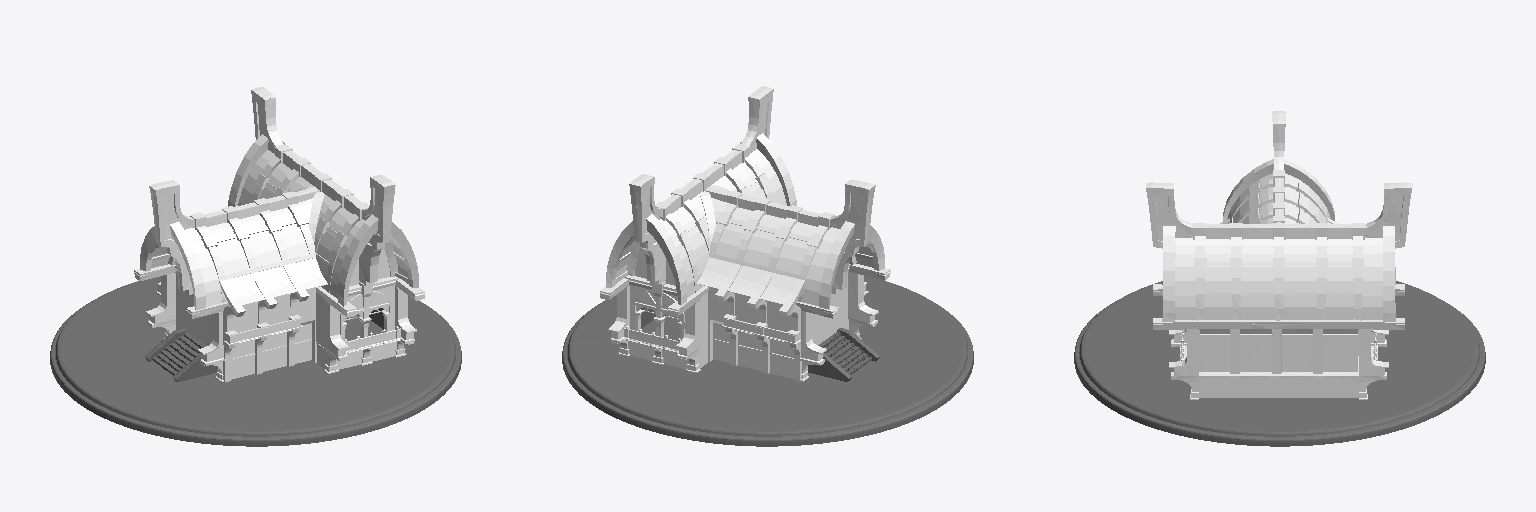
File: house.obj
The picture shows the model from 3 angles: view 1: azimuth 30°, elevation 25°; view 2: azimuth 150°, elevation 25°; view 3: azimuth 270°, elevation 25°; orthographic projection.
Parts seen in each view (by area): view 1: MESH_House_Mesh.002, MESH_Basement_Mesh.001, MESH_stairs:polySurface87_Mesh.003, MESH_BlackBox_Mesh; view 2: MESH_House_Mesh.002, MESH_Basement_Mesh.001, MESH_stairs:polySurface87_Mesh.003, MESH_BlackBox_Mesh; view 3: MESH_House_Mesh.002, MESH_Basement_Mesh.001.
Boxes of the visible parts, x1=… form: MESH_House_Mesh.002: x1=134, y1=87, x2=424, y2=382; MESH_Basement_Mesh.001: x1=50, y1=276, x2=461, y2=446; MESH_stairs:polySurface87_Mesh.003: x1=144, y1=328, x2=216, y2=381; MESH_BlackBox_Mesh: x1=328, y1=303, x2=383, y2=340; MESH_House_Mesh.002: x1=600, y1=86, x2=890, y2=381; MESH_Basement_Mesh.001: x1=562, y1=276, x2=973, y2=446; MESH_stairs:polySurface87_Mesh.003: x1=808, y1=328, x2=879, y2=381; MESH_BlackBox_Mesh: x1=641, y1=300, x2=699, y2=340; MESH_House_Mesh.002: x1=1146, y1=111, x2=1412, y2=399; MESH_Basement_Mesh.001: x1=1074, y1=281, x2=1485, y2=446.
Bounding box in the file's own units: 169 × 93.92 × 169.